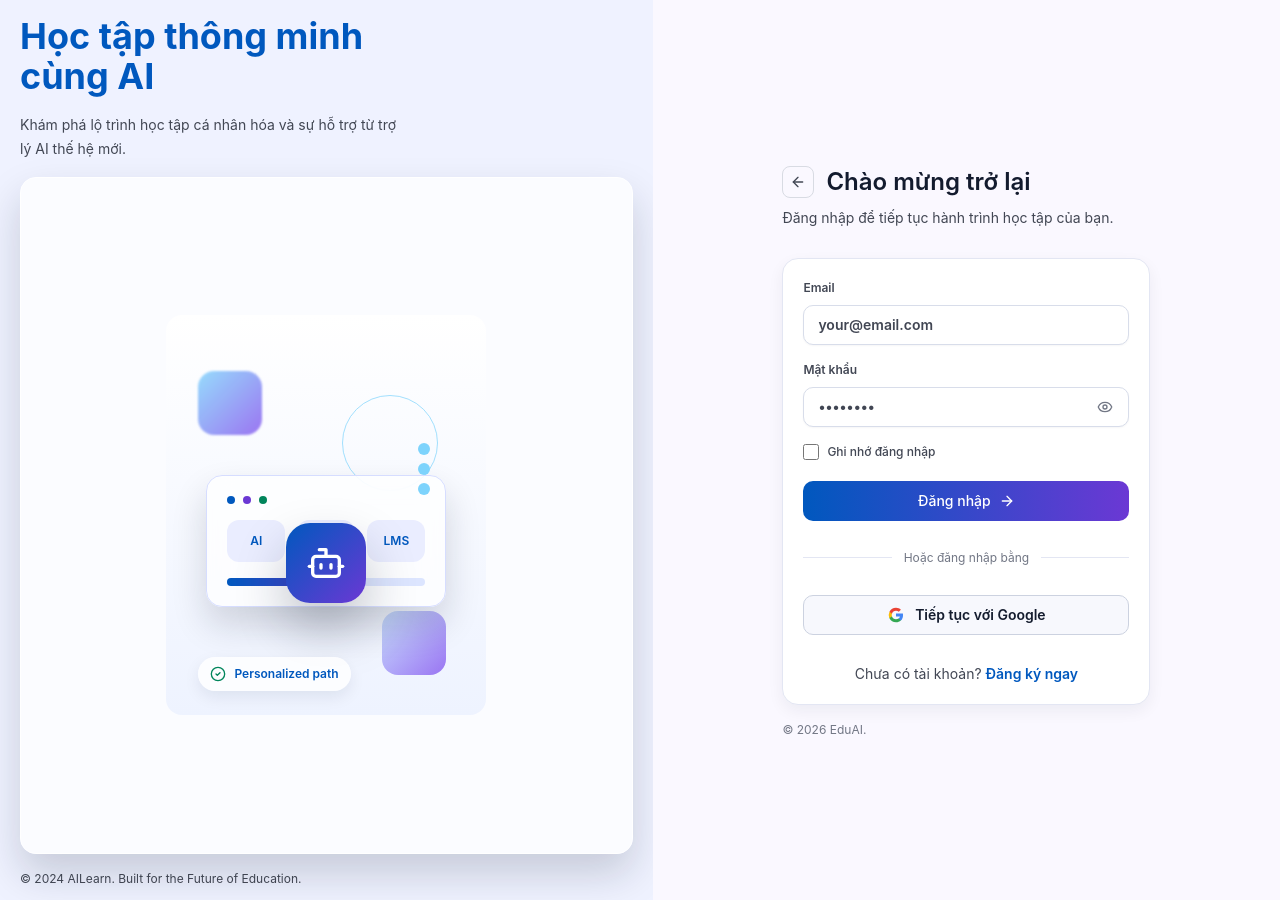
Test case: Google auth actions on auth pages › shows one safe embedded-browser recovery action
The width and height of the screenshot is (1280, 900).
Click the button "Tiếp tục với Google": point(966, 614) top-left (803, 594), bottom-right (1129, 634)
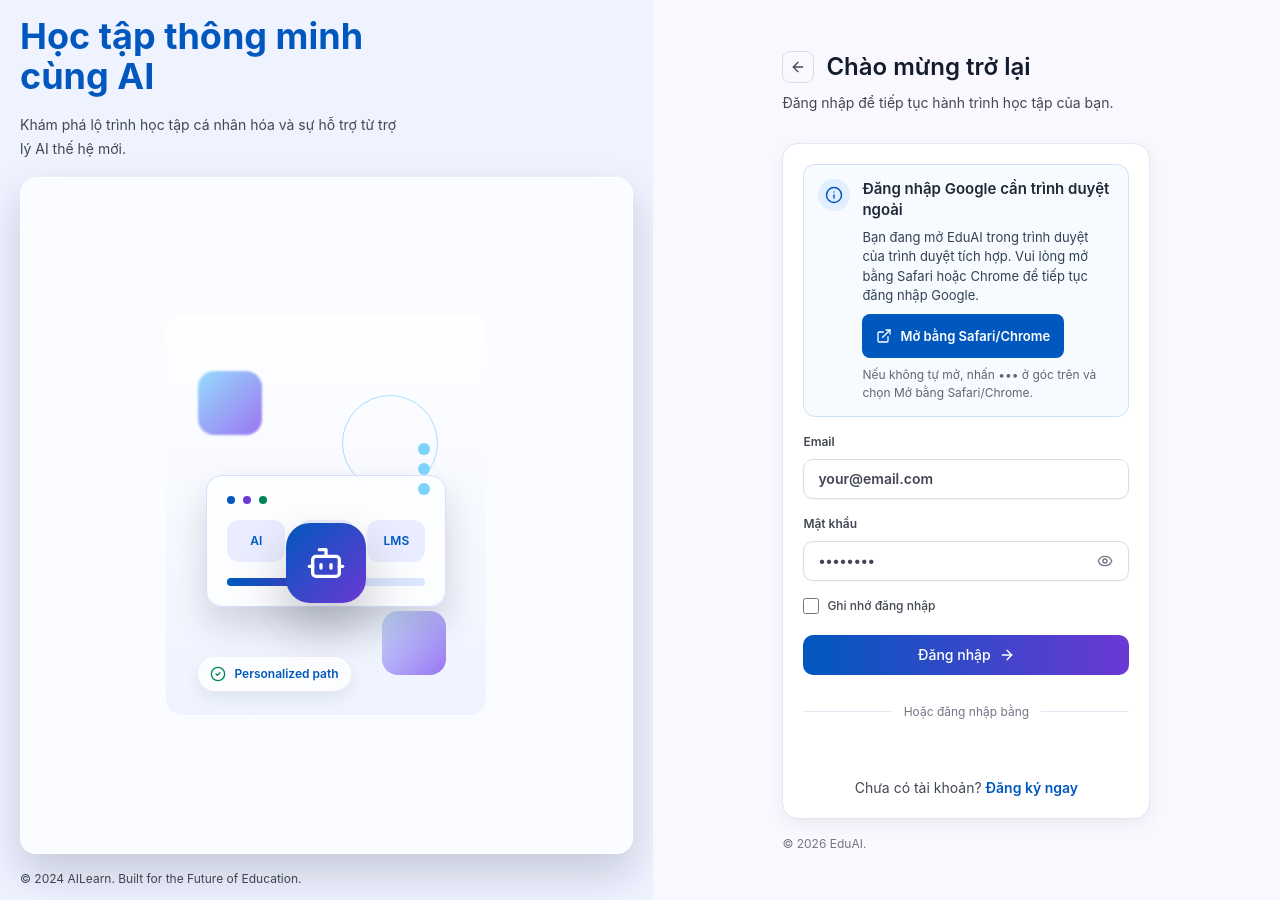
Now the message is shown, box top-left (803, 164), bottom-right (1129, 417)
Now the heading "Đăng nhập Google cần trình duyệt ngoài" is shown, box top-left (862, 179), bottom-right (1114, 220)
Now the text "Nếu không tự mở" is shown, box top-left (862, 367), bottom-right (1096, 400)
